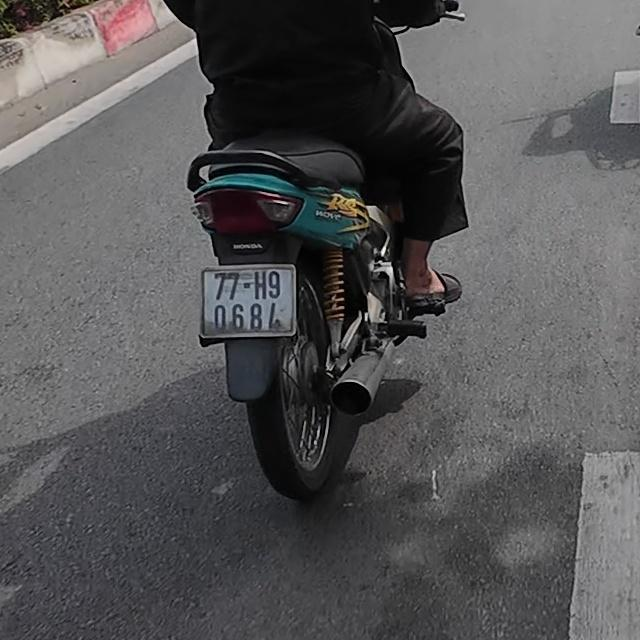license-plate: (203, 268, 293, 335)
